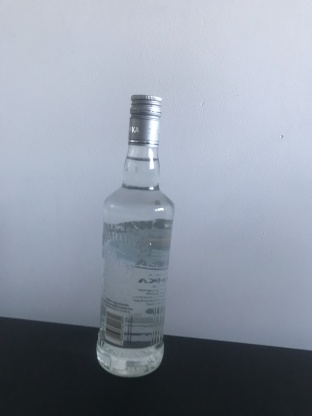nakretka: (126, 92, 162, 149)
